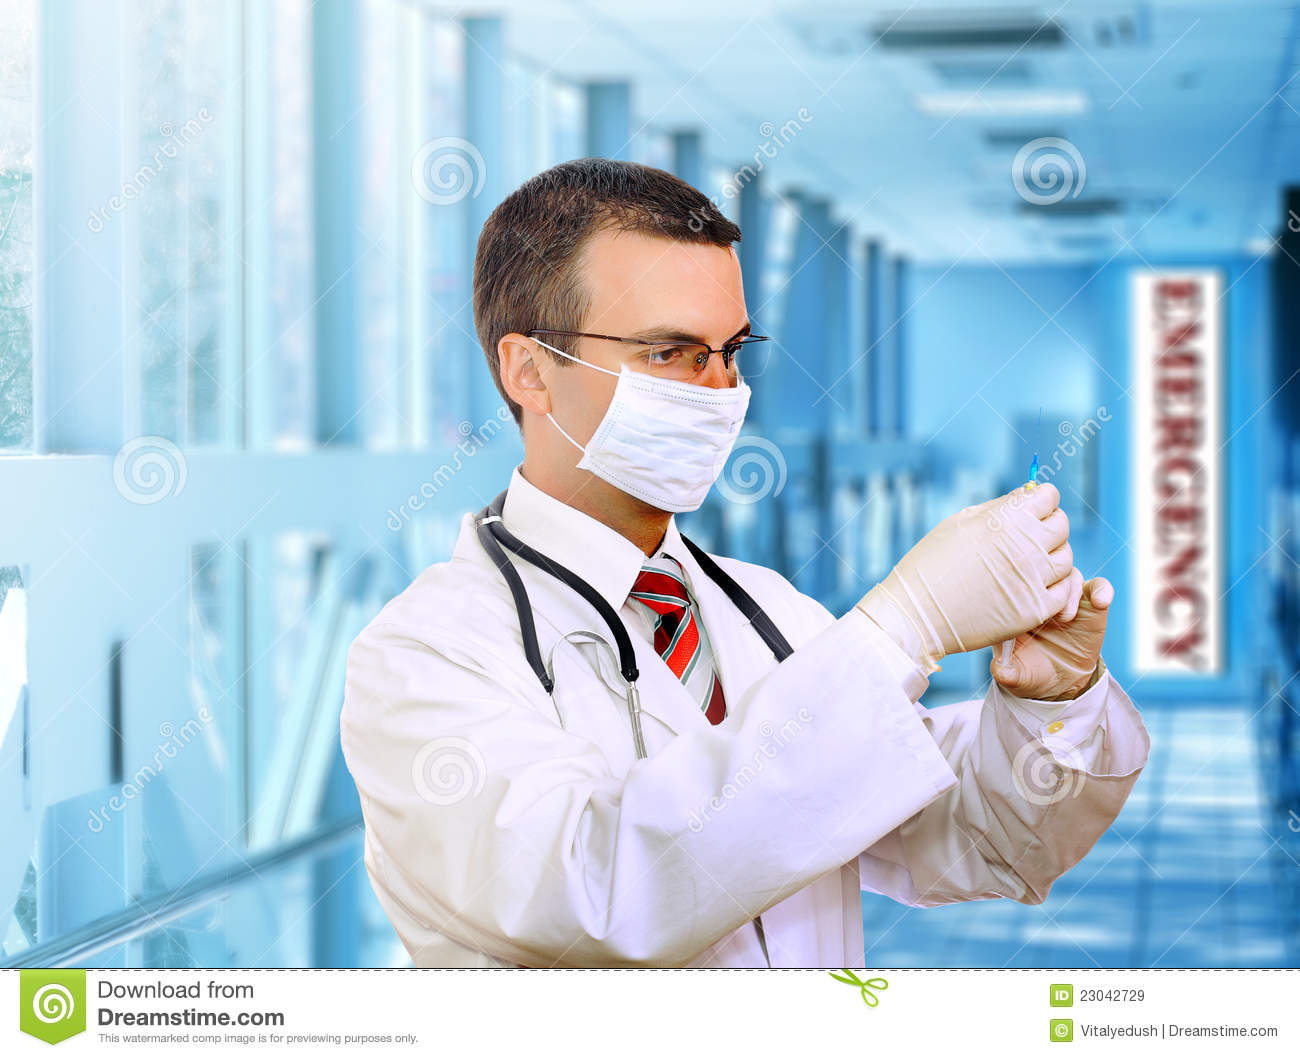mask: (608, 381, 764, 512)
